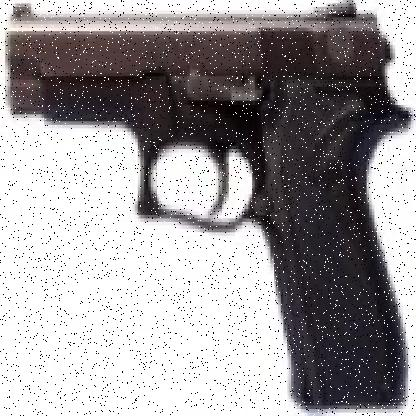pistol: (10, 3, 408, 405)
